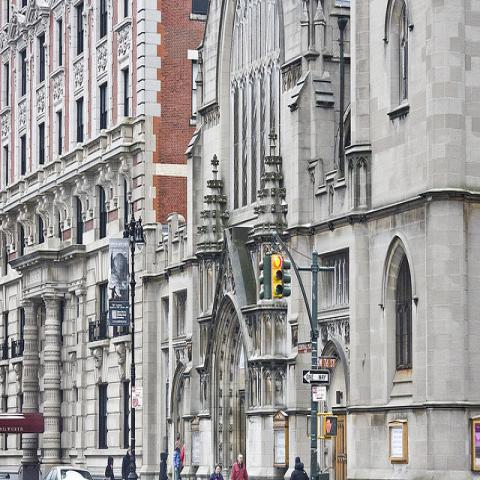car: (42, 466, 95, 479)
